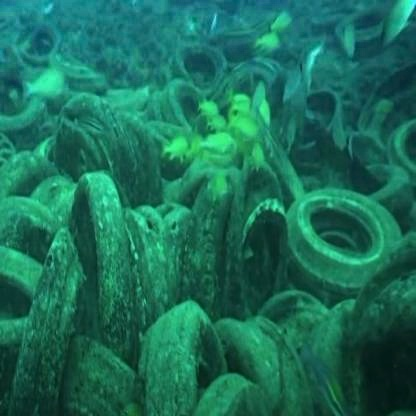tire: (259, 176, 399, 323), (56, 148, 144, 332), (196, 168, 292, 292), (158, 301, 253, 416), (160, 40, 248, 148)
